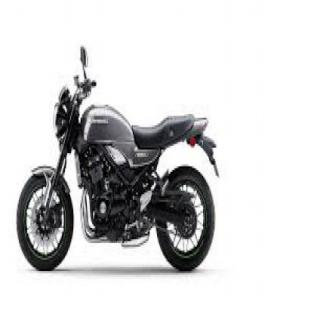Motocicleta: (13, 43, 223, 282)
